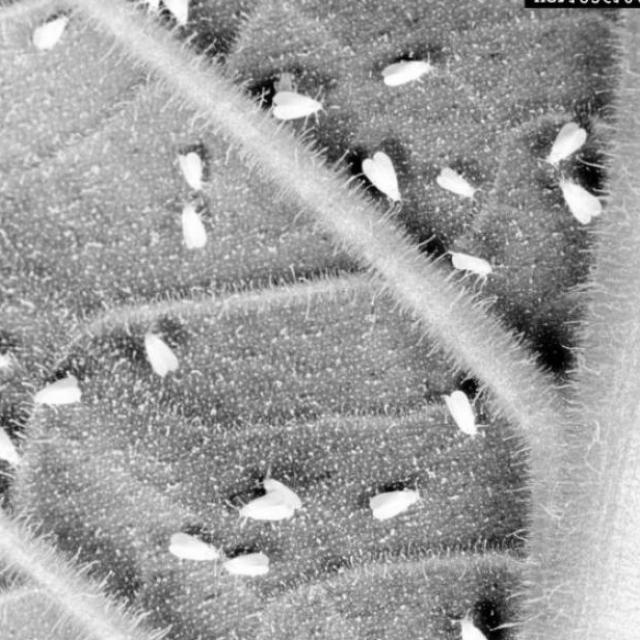Whitefly: (156, 439, 324, 587), (169, 132, 246, 268), (538, 104, 616, 238), (356, 146, 500, 210), (352, 453, 446, 537), (373, 26, 457, 108), (22, 0, 99, 83), (428, 368, 501, 452), (260, 65, 350, 129), (136, 310, 200, 394), (23, 360, 102, 424), (447, 235, 509, 288)
